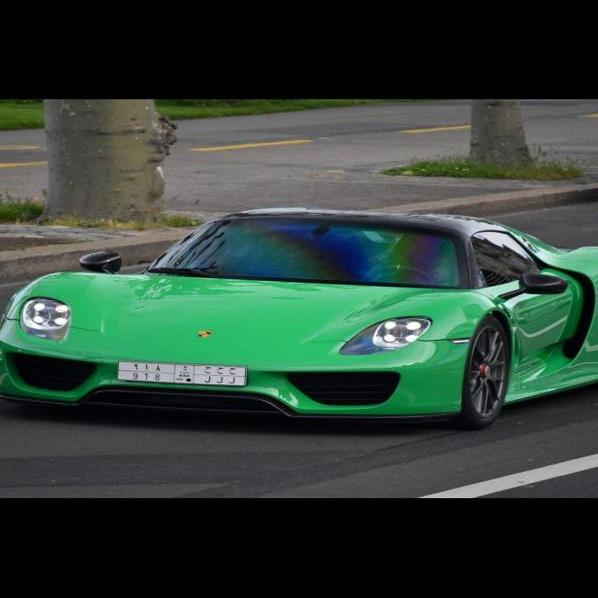numberplate: (116, 360, 251, 387)
